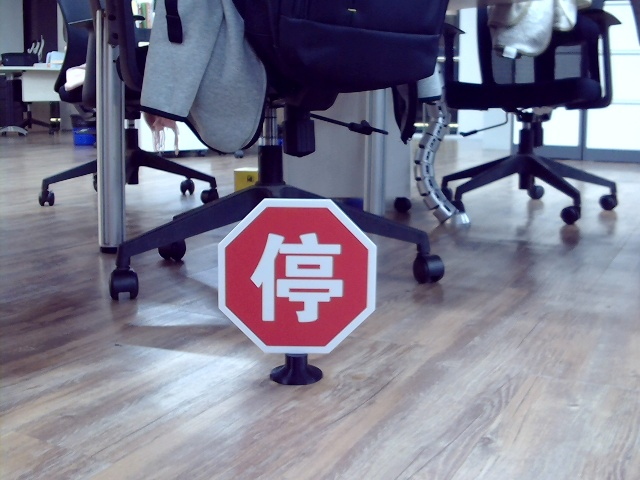stop: (248, 229, 346, 325)
